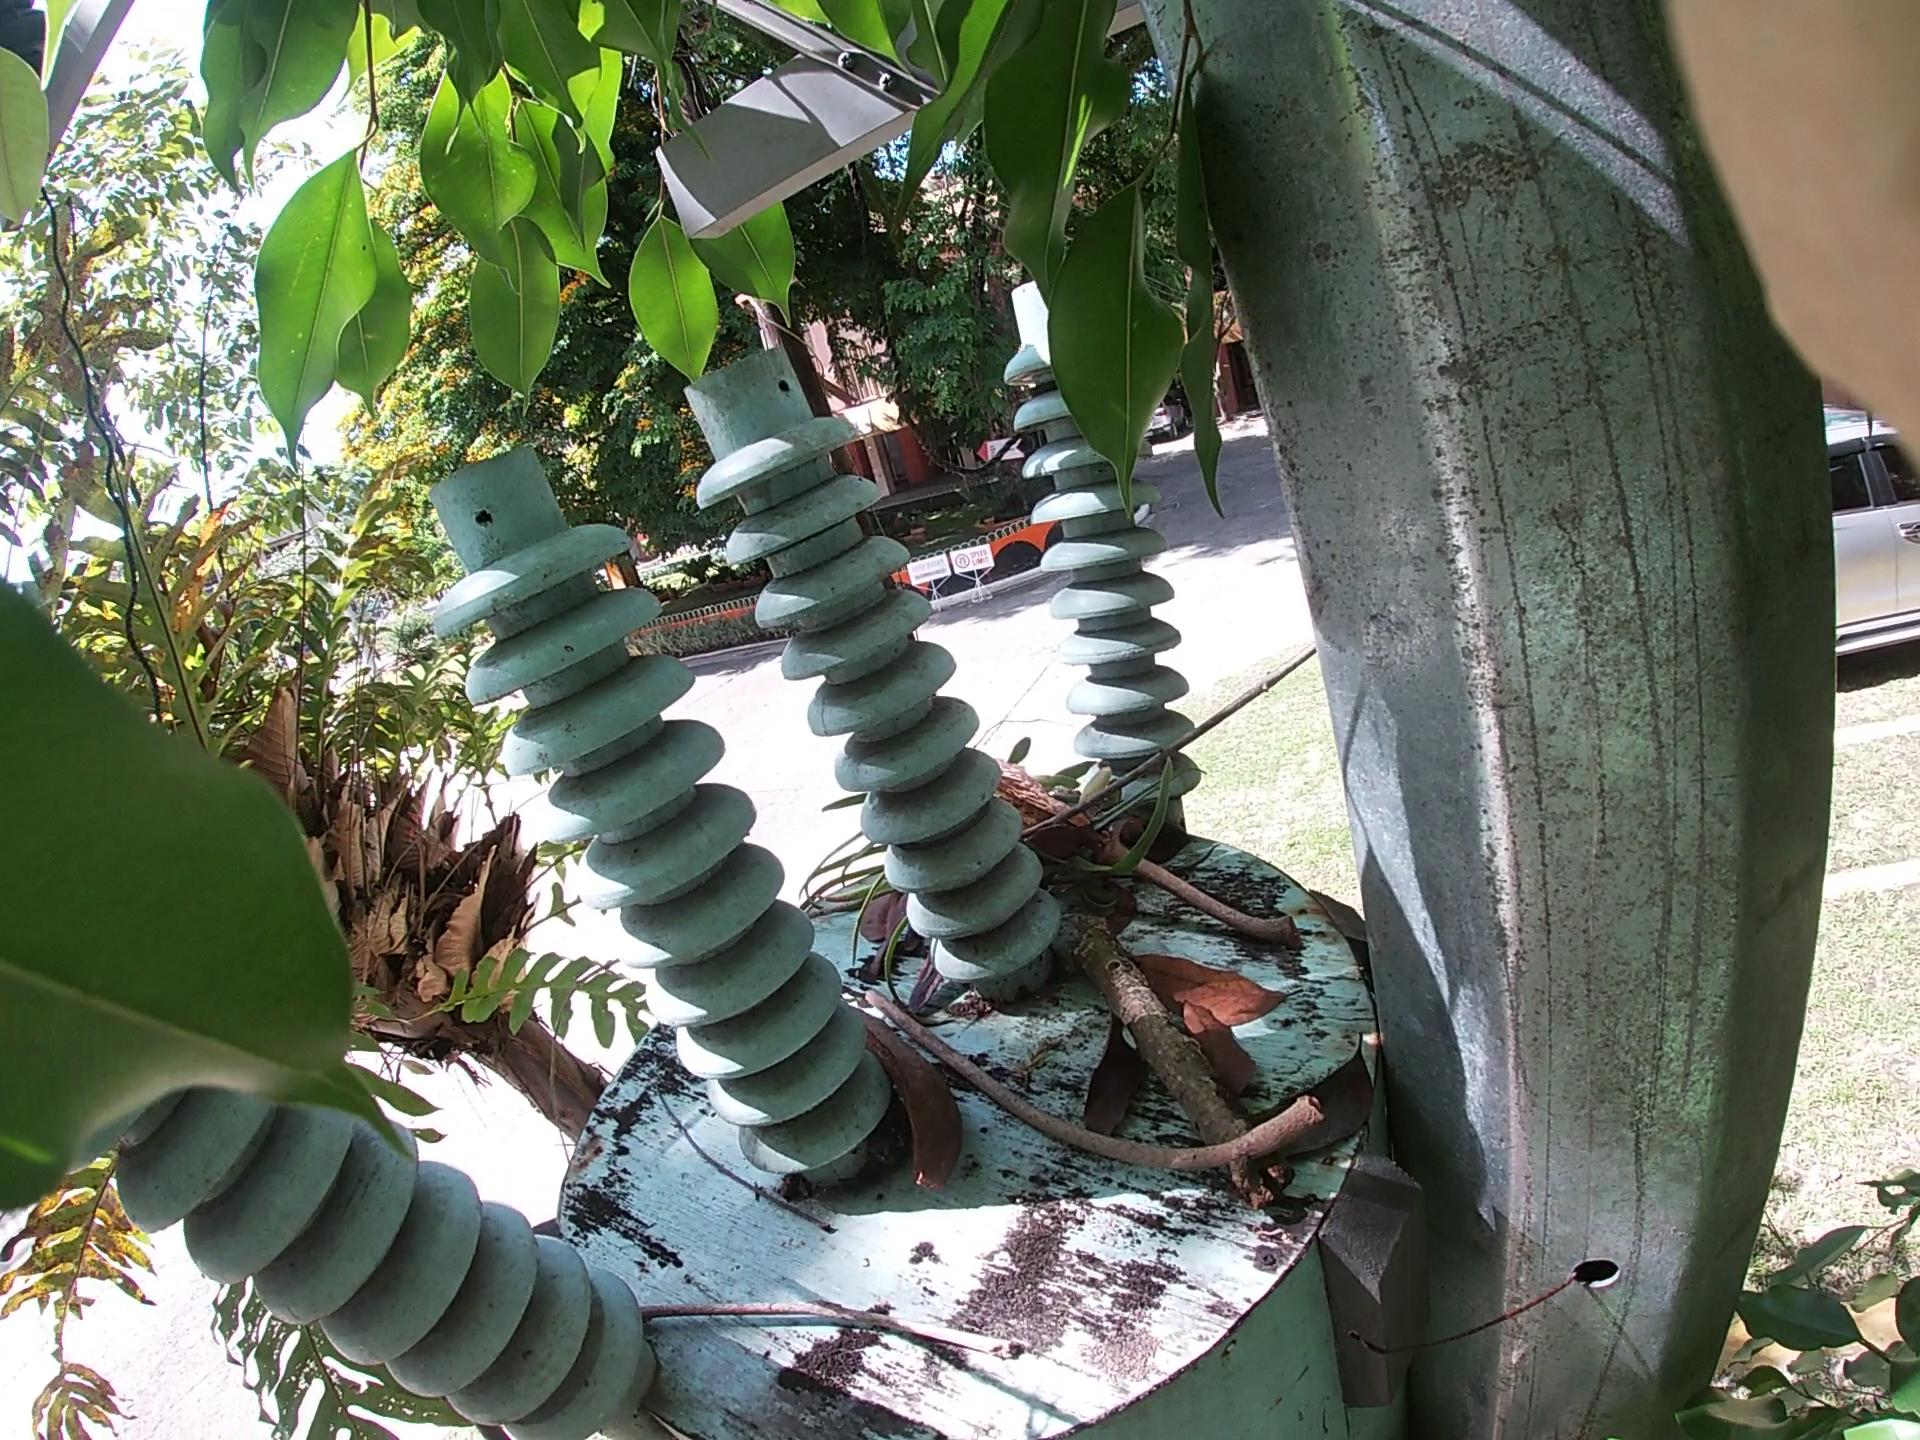branch with leaves: (919, 700, 1441, 1271)
leaf: (1034, 939, 1256, 1125)
tree branch: (831, 954, 1373, 1209), (389, 1218, 1163, 1345), (989, 620, 1352, 861), (930, 756, 1336, 967)
